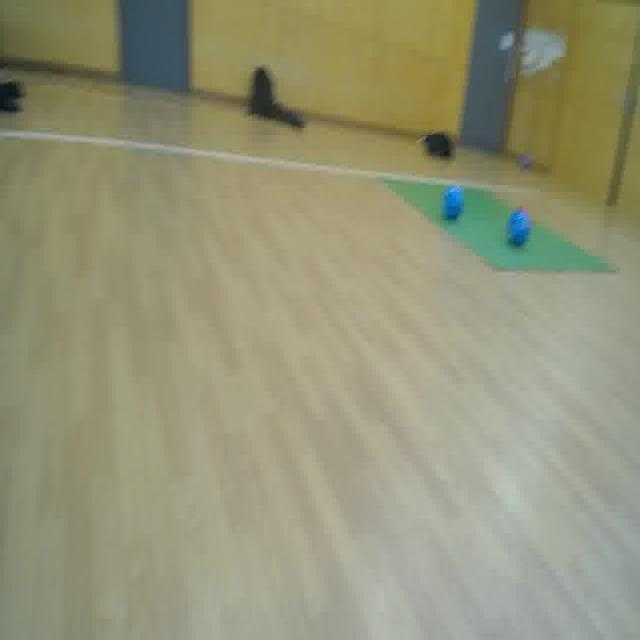blue_ball: (509, 207, 534, 253), (440, 181, 465, 225)
purple_ball: (518, 148, 534, 177)
